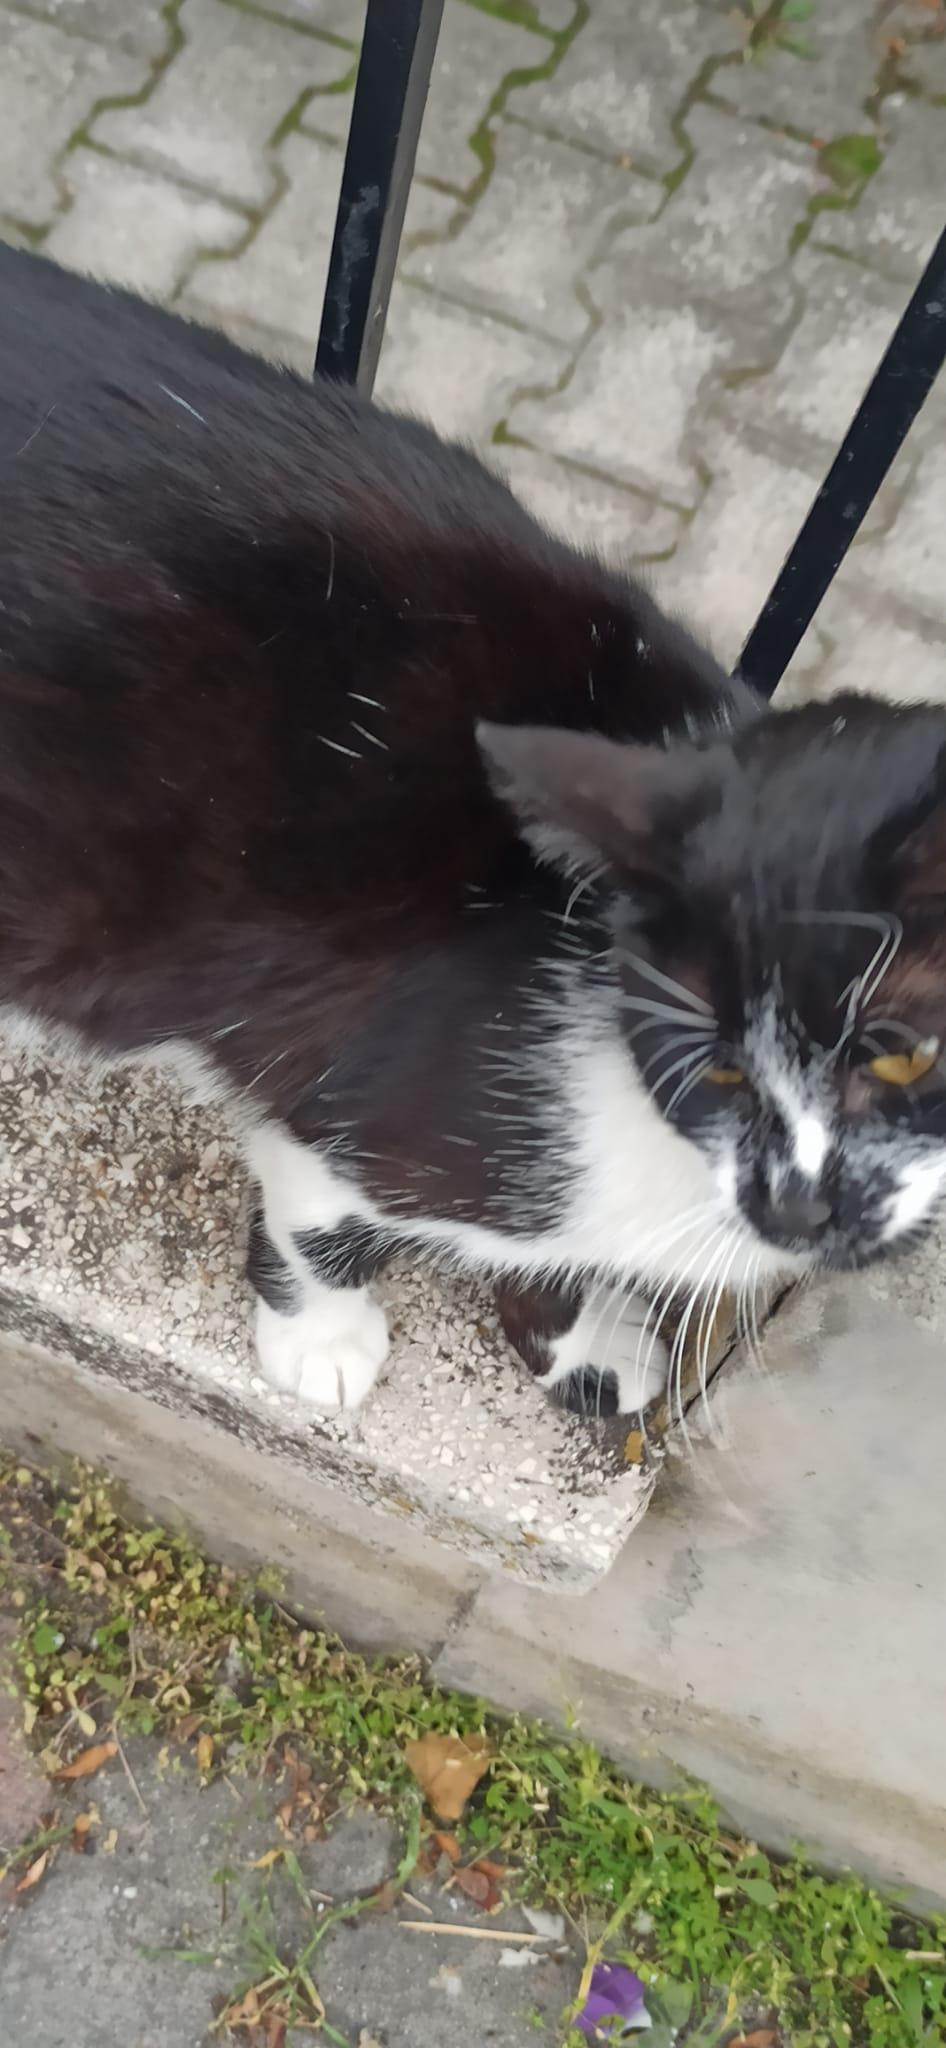kedo: (0, 240, 946, 1424)
